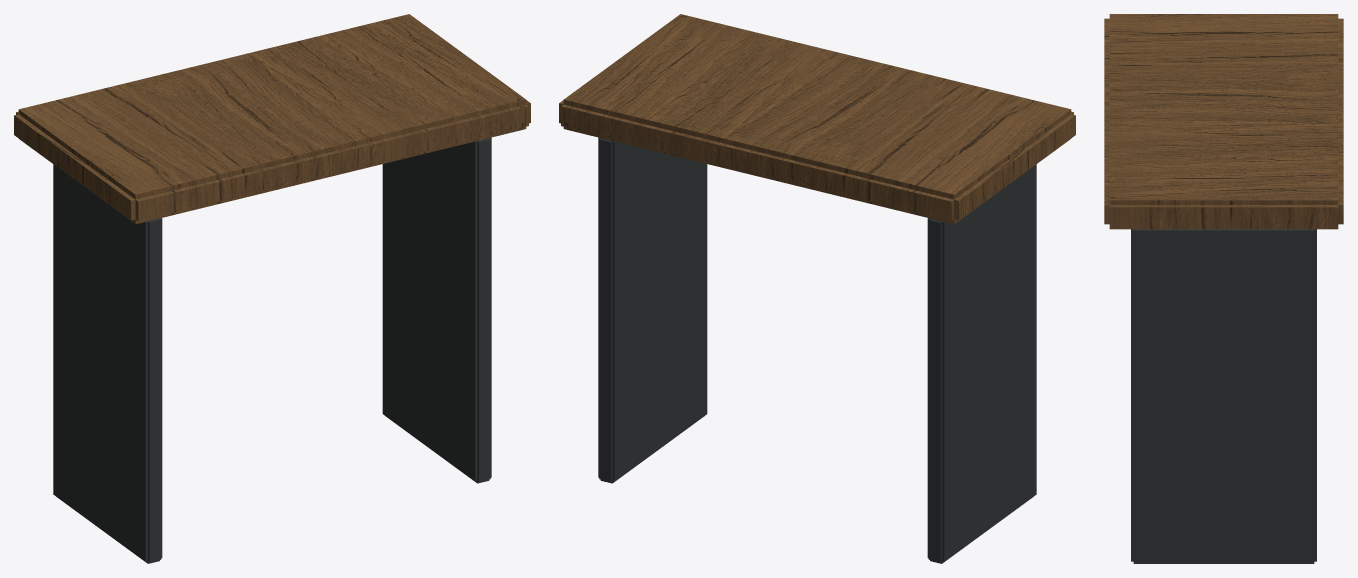
File: fixture_small_presentation.glb
3 views of the same model, side by side, from view 1: azimuth 30°, elevation 25°; view 2: azimuth 150°, elevation 25°; view 3: azimuth 270°, elevation 25° (orthographic). The views are drawn at different scales.
Visible parts, largest first — view 1: fixture_small_presentation_Anodised_graphite, fixture_small_presentation_CC0_Oak_veneer; view 2: fixture_small_presentation_Anodised_graphite, fixture_small_presentation_CC0_Oak_veneer; view 3: fixture_small_presentation_Anodised_graphite, fixture_small_presentation_CC0_Oak_veneer.
Boxes of the visible parts, box(x1,y1,x2,y2) form: fixture_small_presentation_Anodised_graphite: box(53, 137, 491, 563); fixture_small_presentation_CC0_Oak_veneer: box(14, 14, 530, 224); fixture_small_presentation_Anodised_graphite: box(598, 137, 1036, 563); fixture_small_presentation_CC0_Oak_veneer: box(559, 14, 1075, 224); fixture_small_presentation_Anodised_graphite: box(1131, 229, 1316, 563); fixture_small_presentation_CC0_Oak_veneer: box(1104, 14, 1343, 229).
Bounding box in the file's own units: 0.85 × 0.78 × 0.45.
Materials: 2 (1 with a texture image).
